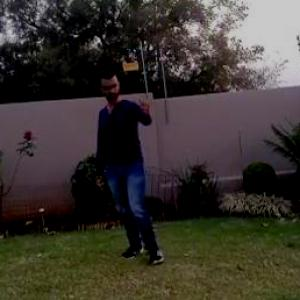takeoff-hand: (135, 84, 162, 113)
